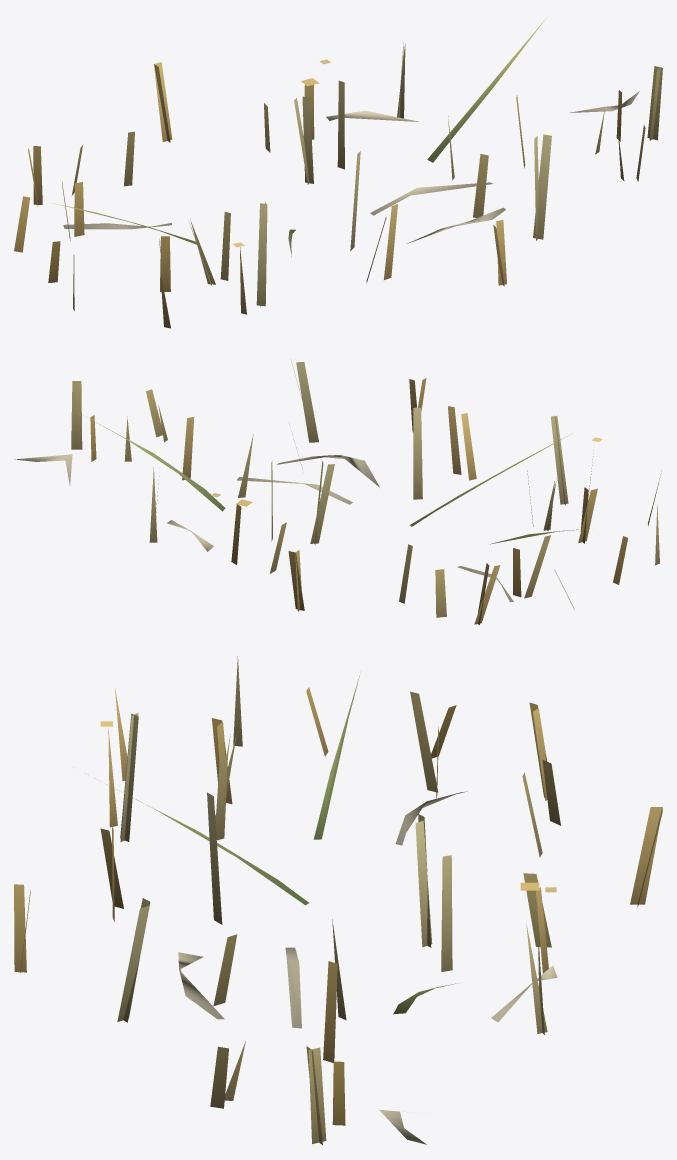
The model's file is WheatStubbleRow_LOD0.glb.
The picture shows the model from 3 angles, top to bottom: view 1: azimuth 30°, elevation 25°; view 2: azimuth 150°, elevation 25°; view 3: azimuth 270°, elevation 25°; orthographic projection. The views are drawn at different scales.
Parts seen in each view (by area): view 1: WheatStubbleRow_LOD0; view 2: WheatStubbleRow_LOD0; view 3: WheatStubbleRow_LOD0.
Part boxes in pixels (x1,y1,x2,y2): WheatStubbleRow_LOD0: [14, 16, 662, 328]; WheatStubbleRow_LOD0: [14, 359, 661, 624]; WheatStubbleRow_LOD0: [14, 656, 662, 1145].
Bounding box in the file's own units: 0.3353 × 0.0507 × 0.2213.
